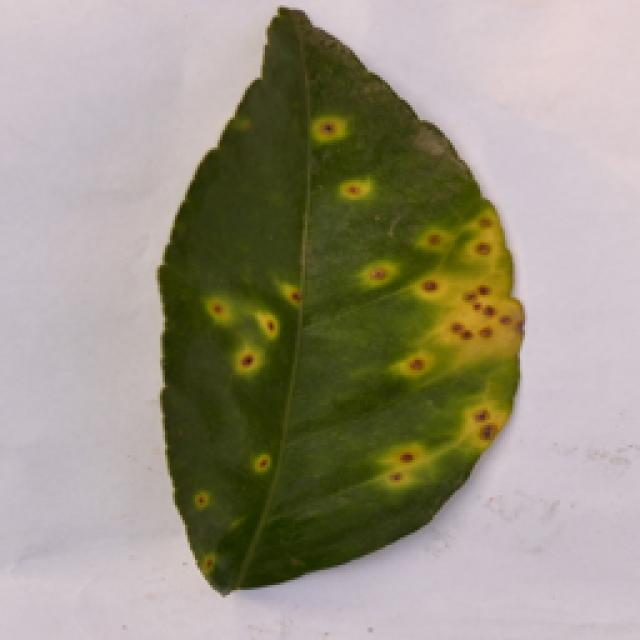canker: (118, 101, 548, 584)
